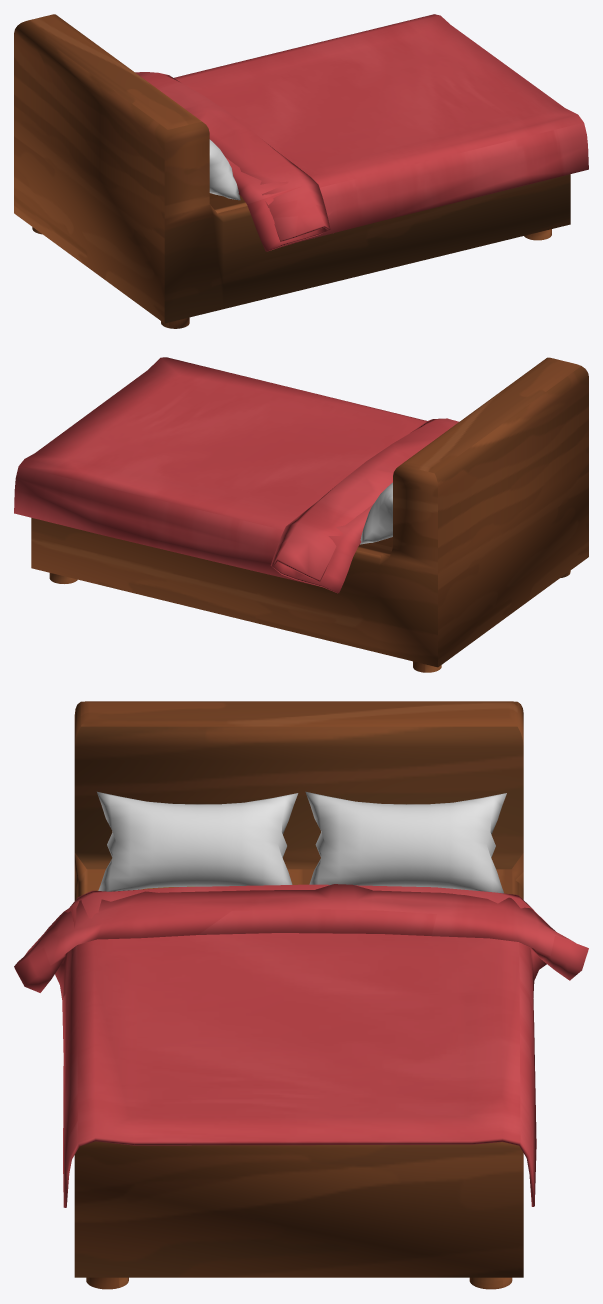
Rendered from cama2.0.fbx.
The picture shows the model from 3 angles, top to bottom: view 1: azimuth 30°, elevation 25°; view 2: azimuth 150°, elevation 25°; view 3: azimuth 270°, elevation 25°; orthographic projection. The views are drawn at different scales.
Visible parts, largest first — view 1: Cama, Almohada; view 2: Cama, Almohada.001; view 3: Cama, Almohada, Almohada.001.
Boxes of the visible parts, x1=… form: Cama: x1=14, y1=14, x2=588, y2=328; Almohada: x1=209, y1=139, x2=240, y2=200; Cama: x1=14, y1=357, x2=588, y2=672; Almohada.001: x1=360, y1=482, x2=392, y2=544; Cama: x1=14, y1=701, x2=588, y2=1289; Almohada: x1=97, y1=791, x2=298, y2=891; Almohada.001: x1=305, y1=791, x2=506, y2=893.
Bounding box in the file's own units: 981 × 459 × 779.
2 materials, 1 textured.
